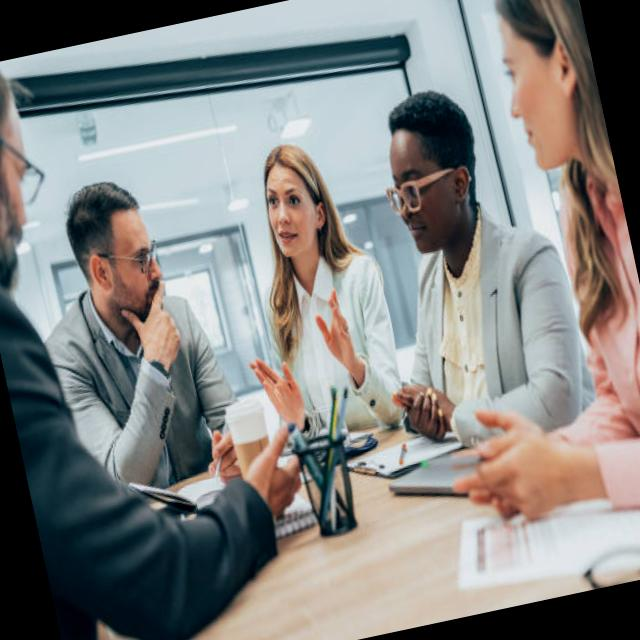Hand: (458, 389, 584, 532), (236, 426, 313, 523), (305, 282, 367, 391), (246, 351, 310, 437), (202, 422, 244, 486)
